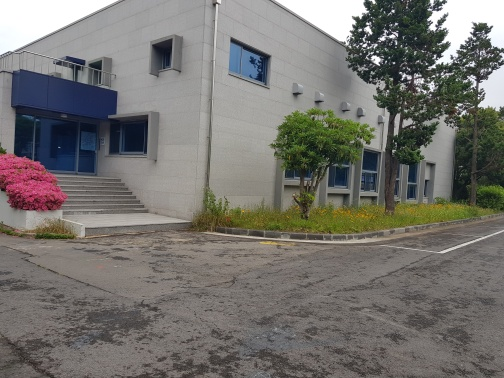College of Social Sciences: (5, 10, 459, 237)
